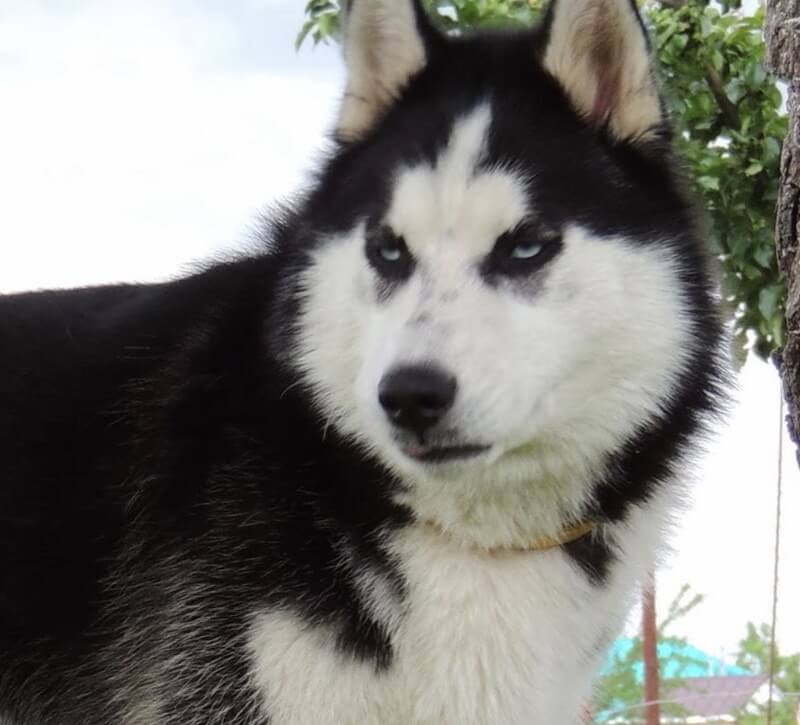husky: (234, 17, 717, 507)
